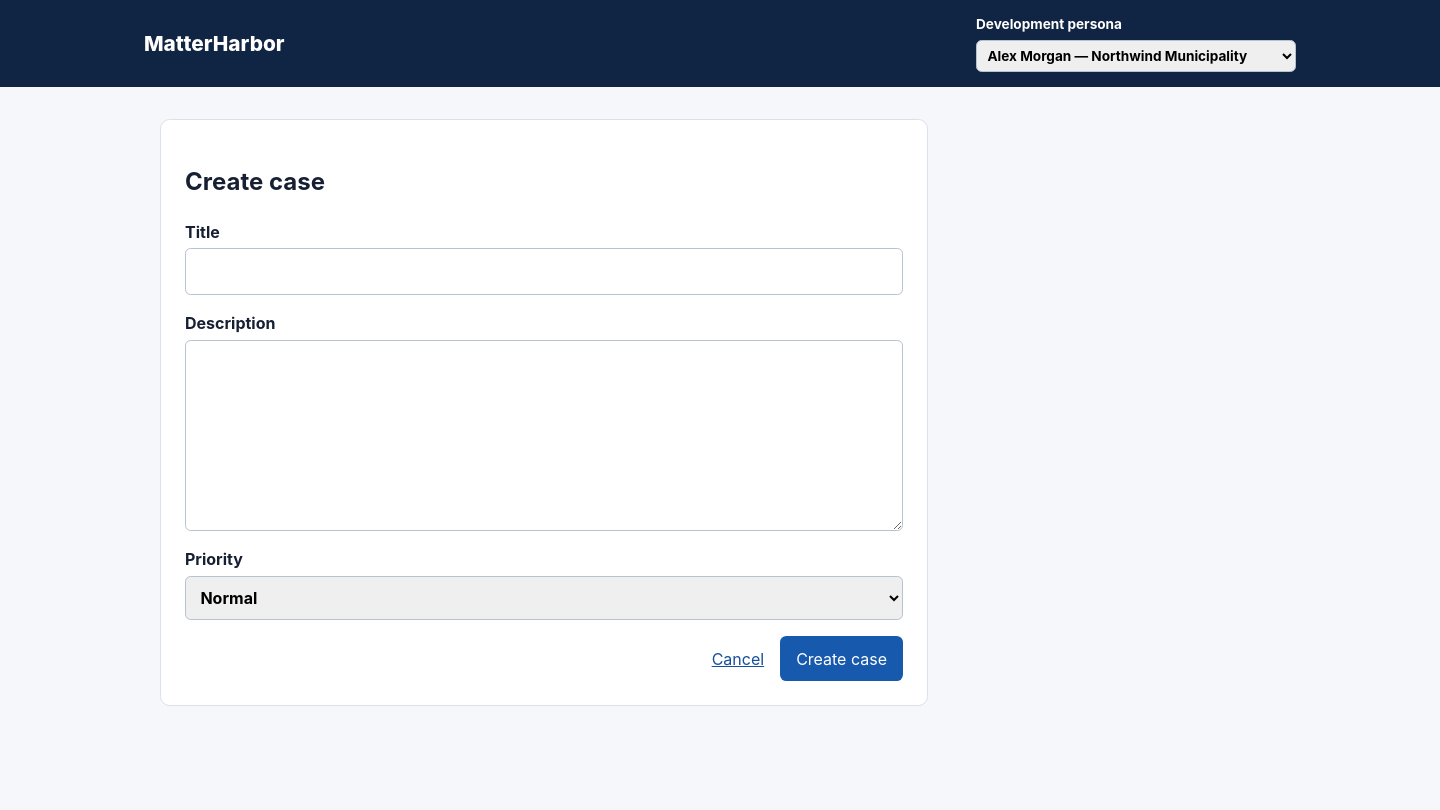
Scenario: creates a case with persona and idempotency headers, then opens it
Type "Broken streetlight" into the field labelled "Title" at (544, 272), box [185,248,903,295]
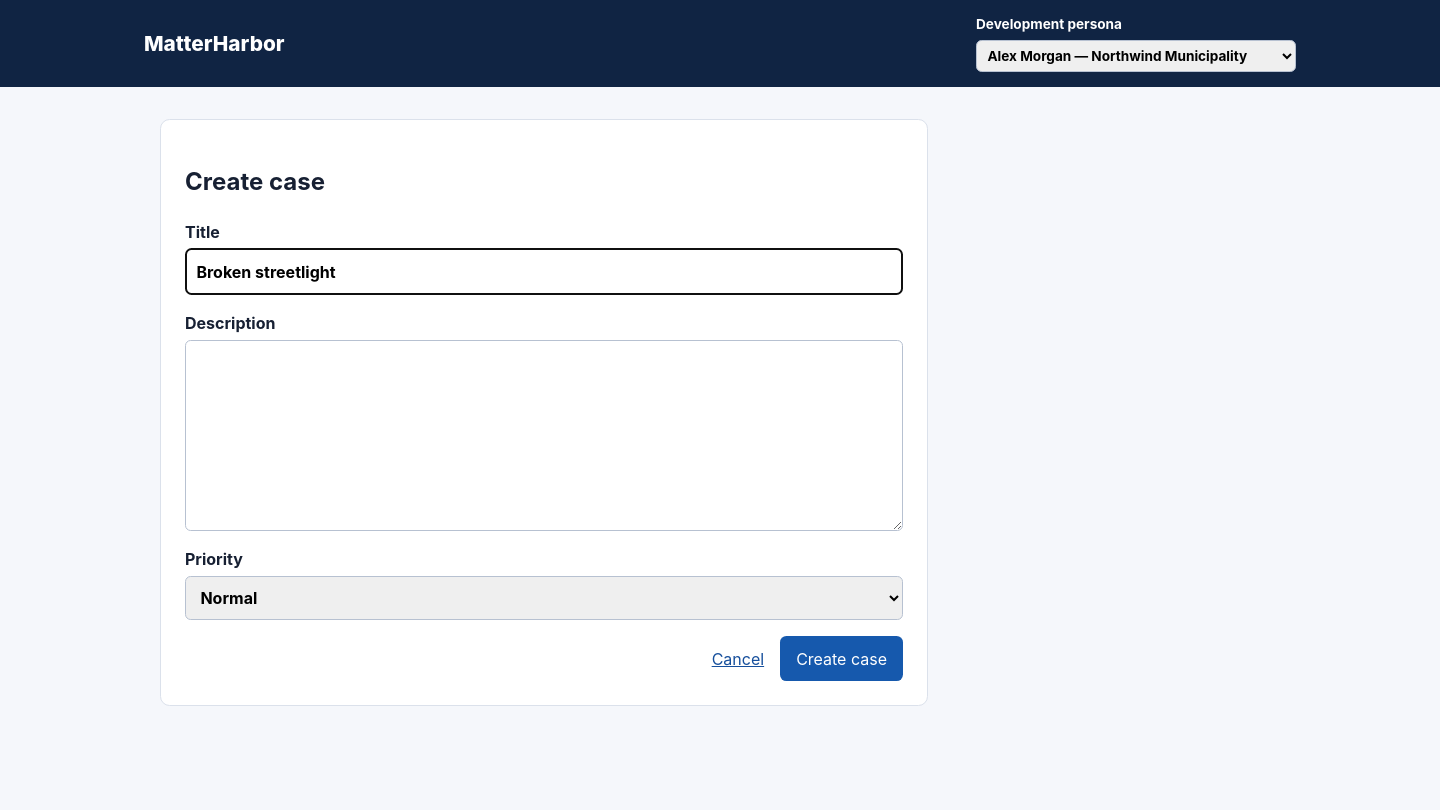
Type "Lamp outside the library is dark." into the text box labelled "Description" at (544, 435), box [185,340,903,531]
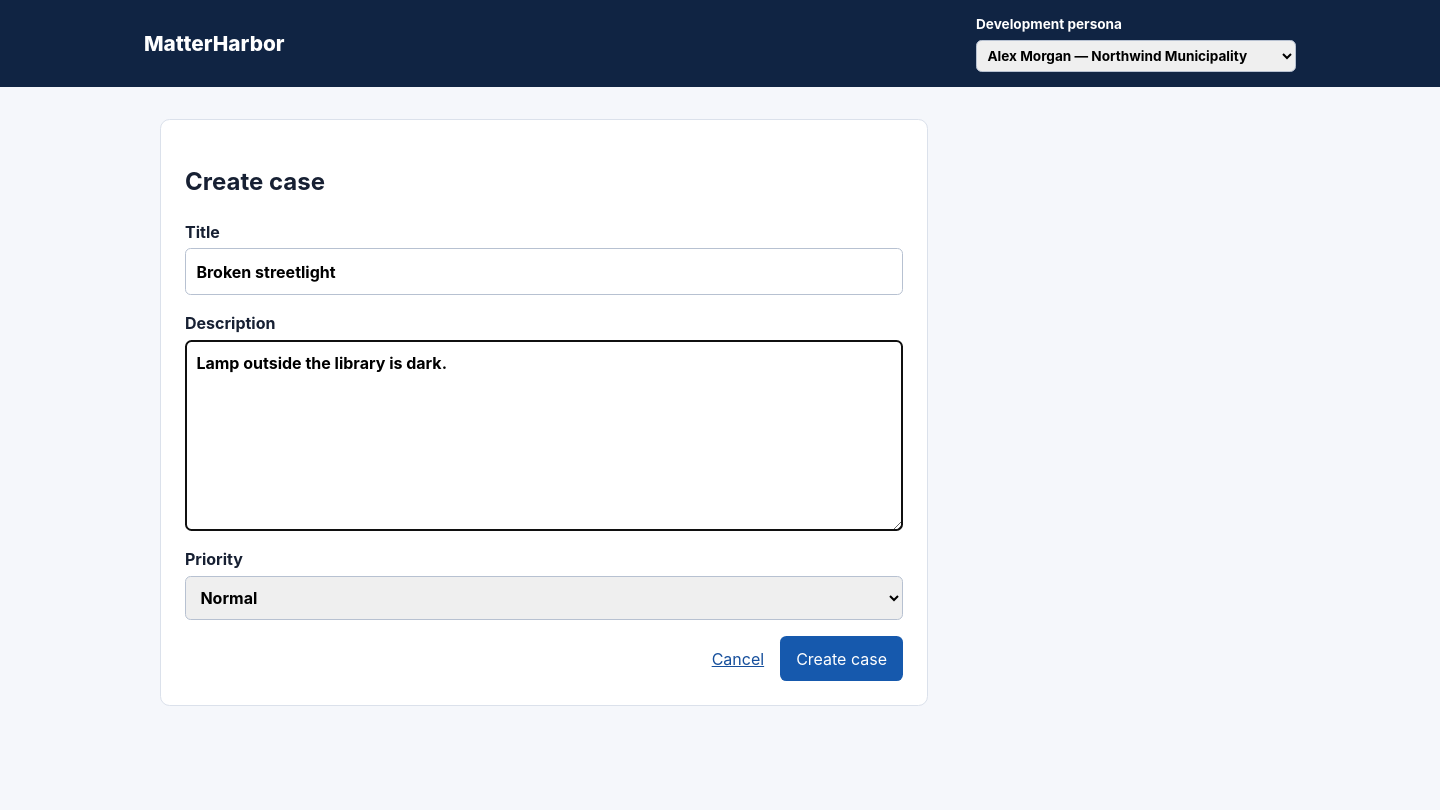
Select "High" in the dropdown labelled "Priority" at (544, 598), box [185,576,903,620]
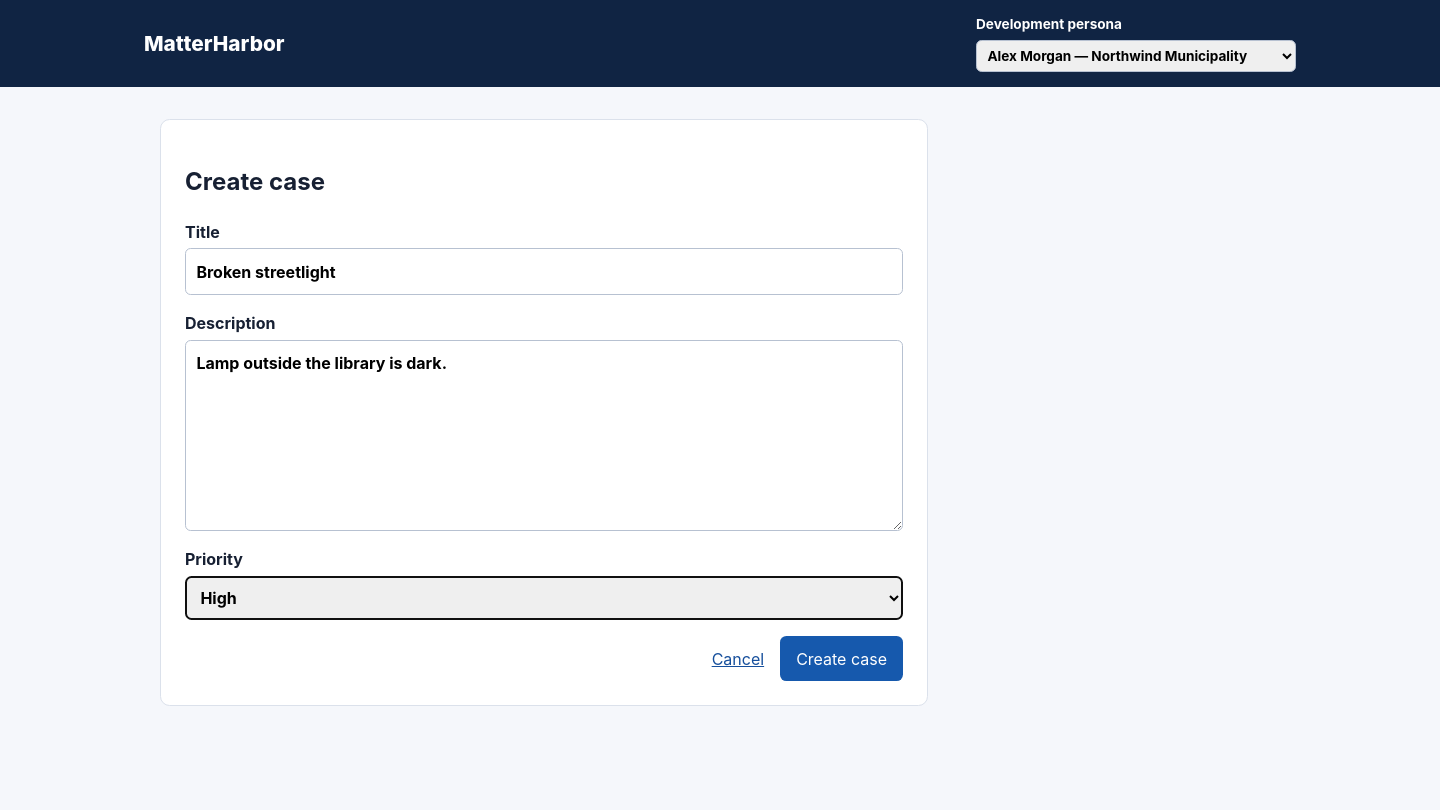
Click the button "Create case" at (842, 659), box [780,636,903,681]
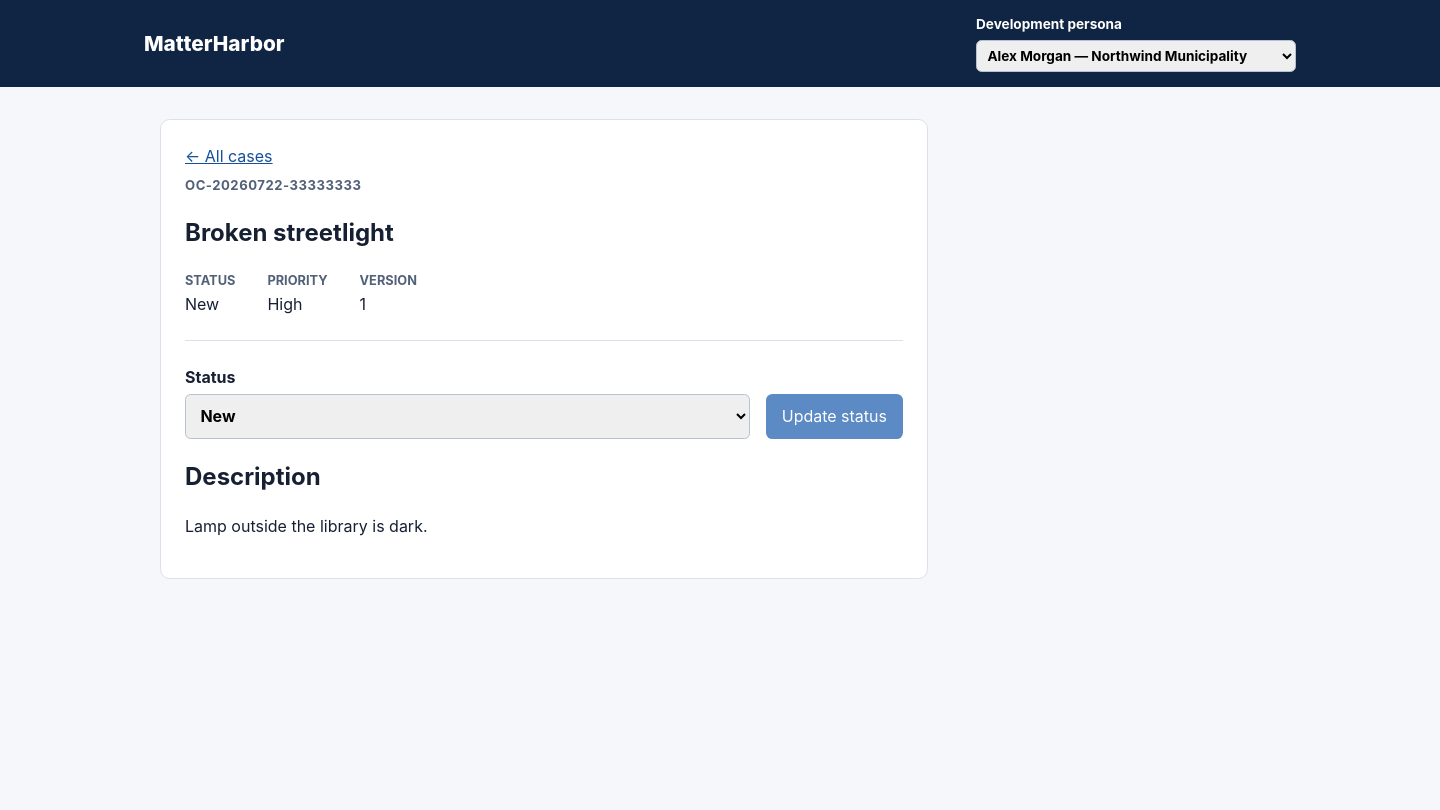
Now the heading "Broken streetlight" is shown, box [185,218,394,247]
